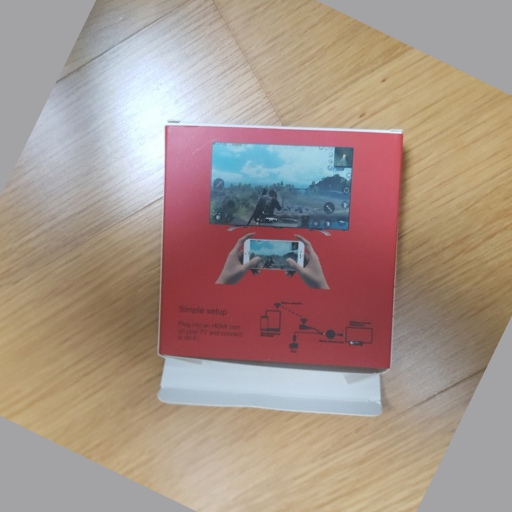Paper_0: (153, 116, 412, 421)
